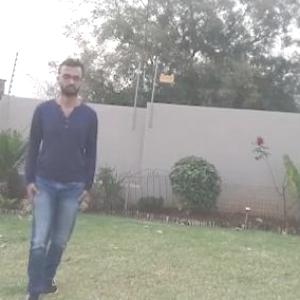follow: (28, 58, 102, 295)
